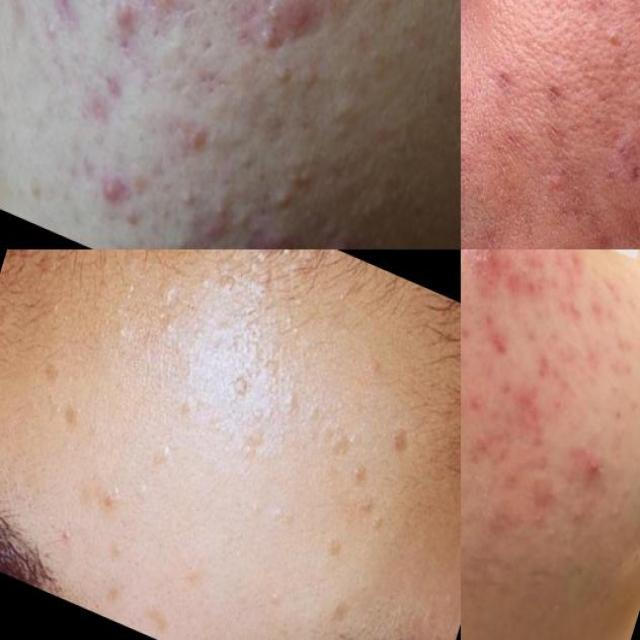acne_scars: (479, 322, 532, 377), (594, 187, 640, 249)
comedone: (264, 142, 315, 225), (590, 15, 634, 62), (26, 5, 69, 52), (596, 487, 638, 533), (165, 167, 204, 216), (95, 311, 134, 358), (253, 492, 290, 538), (268, 372, 303, 420), (48, 520, 84, 562), (252, 575, 291, 613), (92, 534, 125, 576), (202, 184, 234, 227), (535, 515, 570, 553), (296, 398, 320, 429)
flat_wart: (202, 358, 264, 412), (144, 425, 193, 489), (159, 382, 210, 440), (338, 457, 382, 498)
papule: (501, 370, 567, 452), (461, 401, 518, 481), (269, 0, 326, 46), (96, 0, 149, 48), (530, 464, 574, 520), (89, 169, 130, 218), (565, 492, 596, 530)
pustule: (572, 441, 615, 491), (315, 232, 357, 250)
sebo-crystan-conglo: (237, 227, 290, 250)
